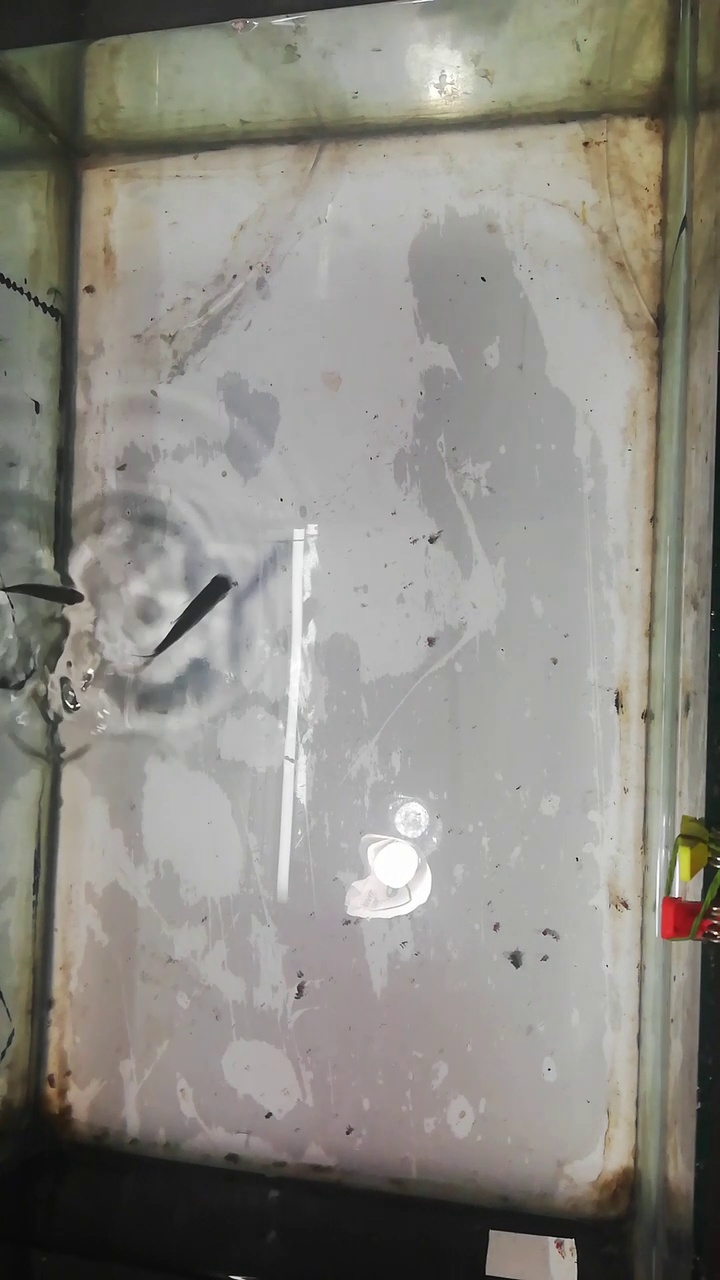fish1: (143, 571, 231, 662)
fish2: (1, 579, 87, 606)
